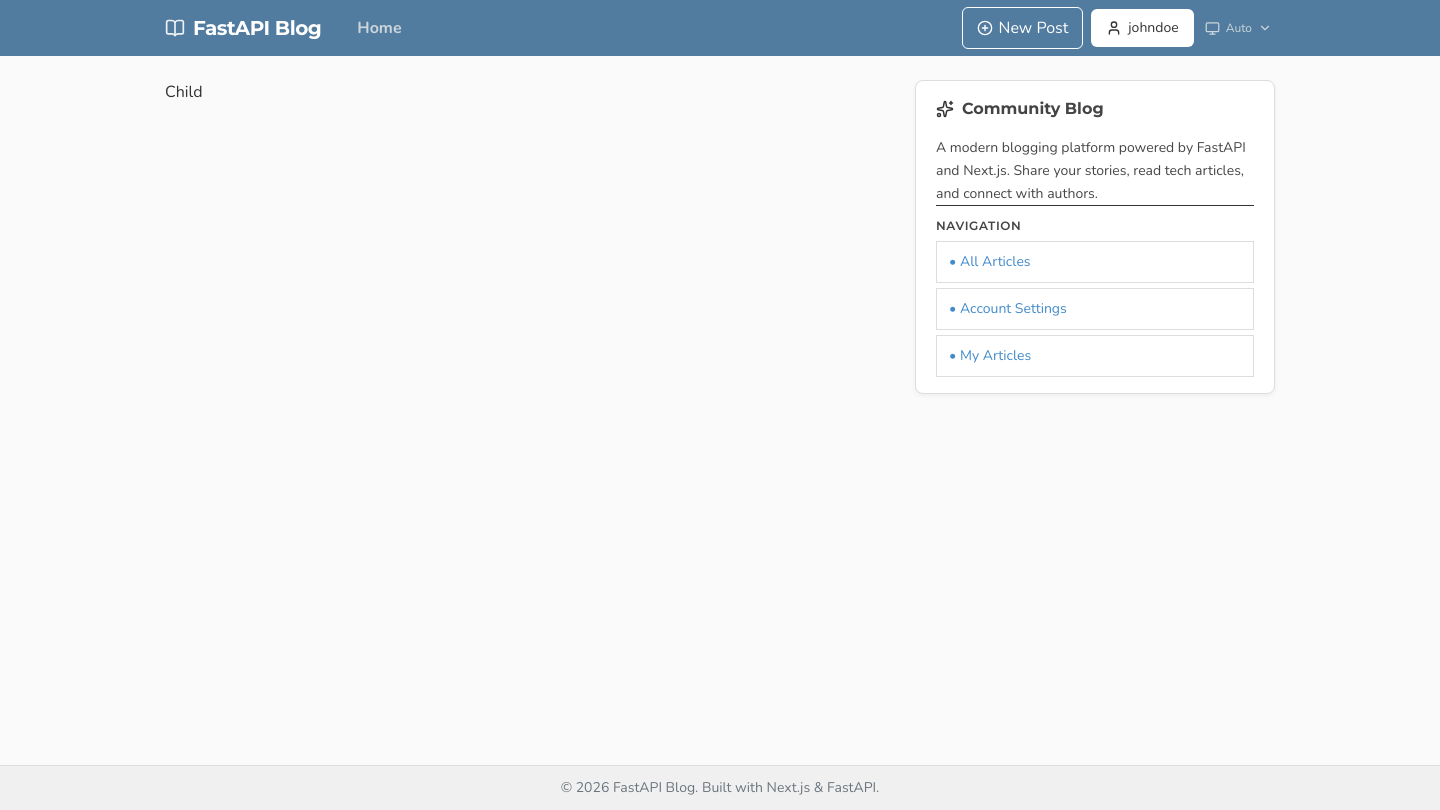
components/AppShell › opens New Post modal when authenticated user clicks New Post button
The image size is (1440, 810).
expect the text "New Post" is shown: met, box [999,16,1068,40]
Click the button "New Post" at (1022, 28), box [962,7,1083,49]
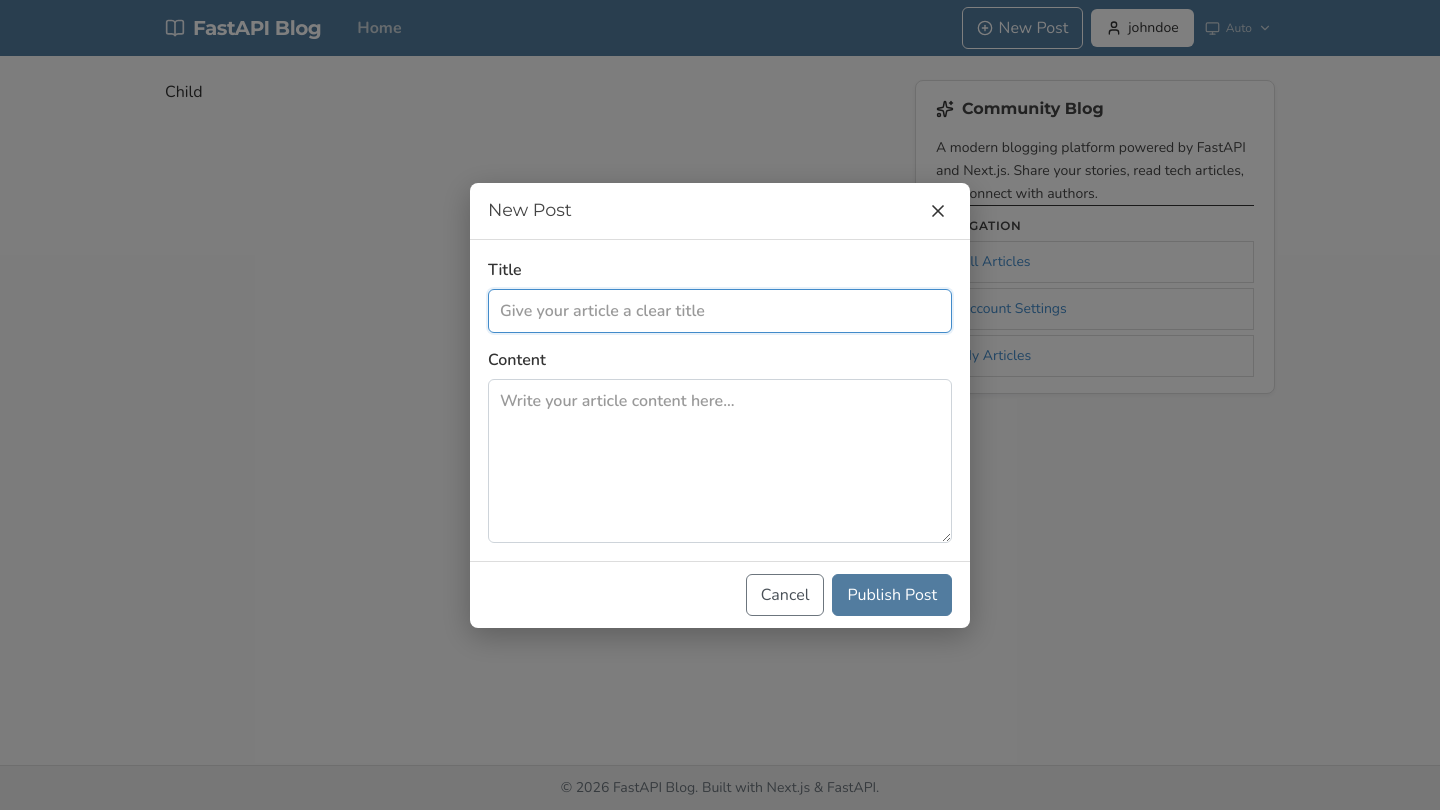
expect the dialog is shown: met
expect the field labelled "Title" is shown: met, box [488,288,952,332]
expect the text box labelled "Content" is shown: met, box [488,378,952,542]
